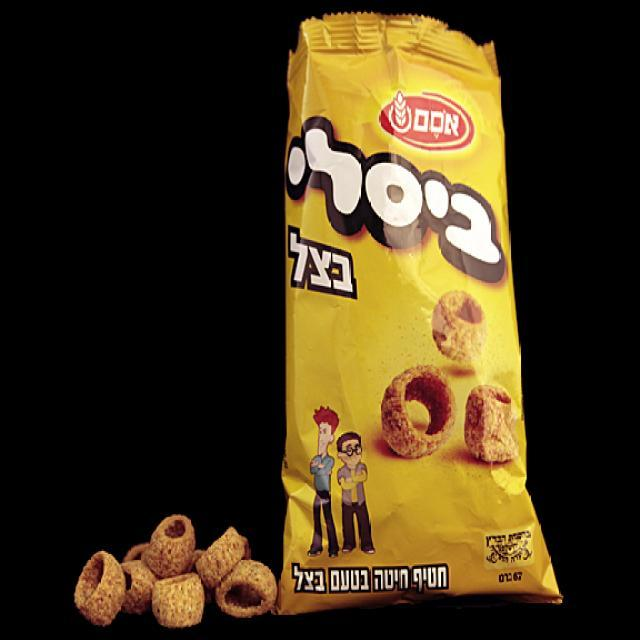Chips: (266, 19, 582, 623)
Chips packaged: (71, 490, 281, 634)
